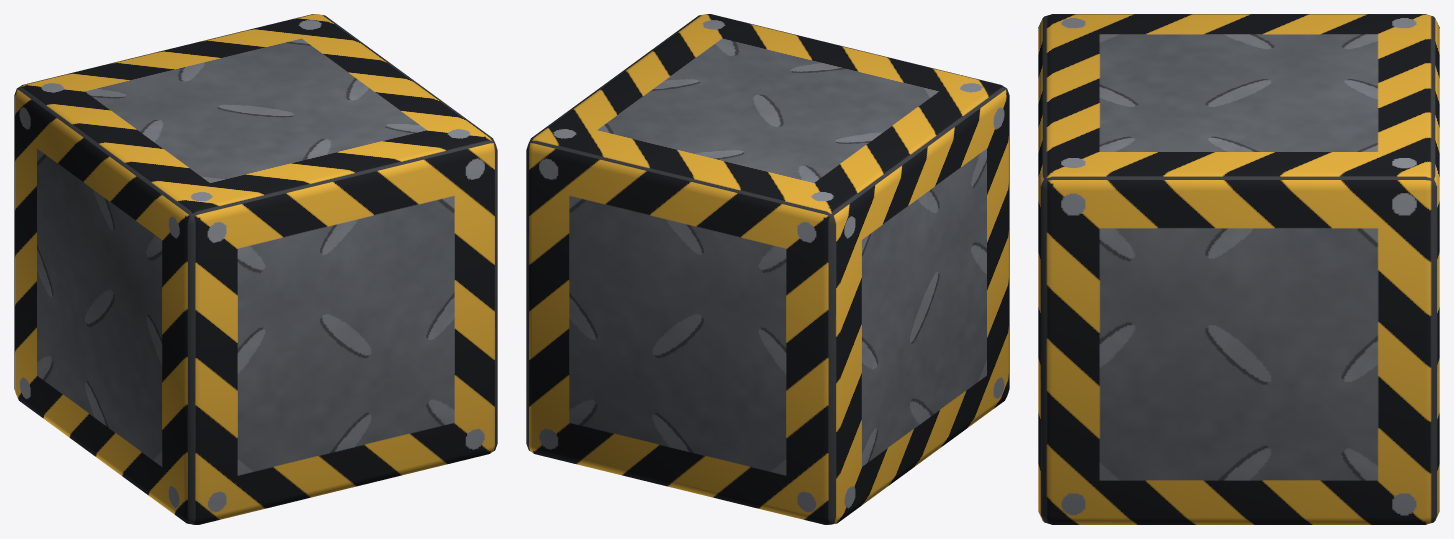
File: border.glb
3 views of the same model, side by side, from view 1: azimuth 30°, elevation 25°; view 2: azimuth 150°, elevation 25°; view 3: azimuth 270°, elevation 25° (orthographic). The views are drawn at different scales.
Visible parts, largest first — view 1: border; view 2: border; view 3: border.
Part boxes in pixels (x1=…): border: x1=14, y1=14, x2=497, y2=524; border: x1=526, y1=14, x2=1009, y2=524; border: x1=1038, y1=14, x2=1439, y2=524.
Bounding box in the file's own units: 0.98 × 0.95 × 0.98.
1 material, 1 textured.
